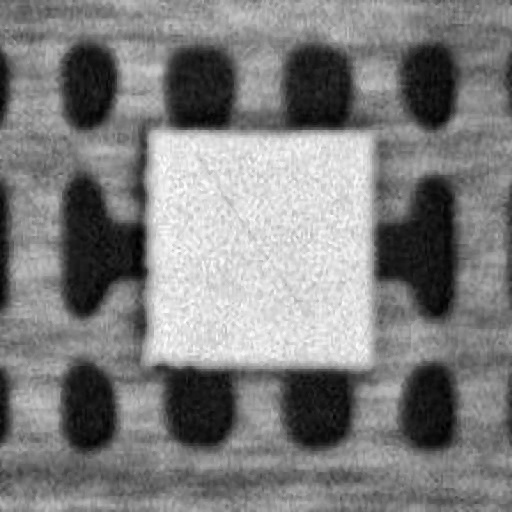DIE_CRACK: (294, 103, 456, 209)
